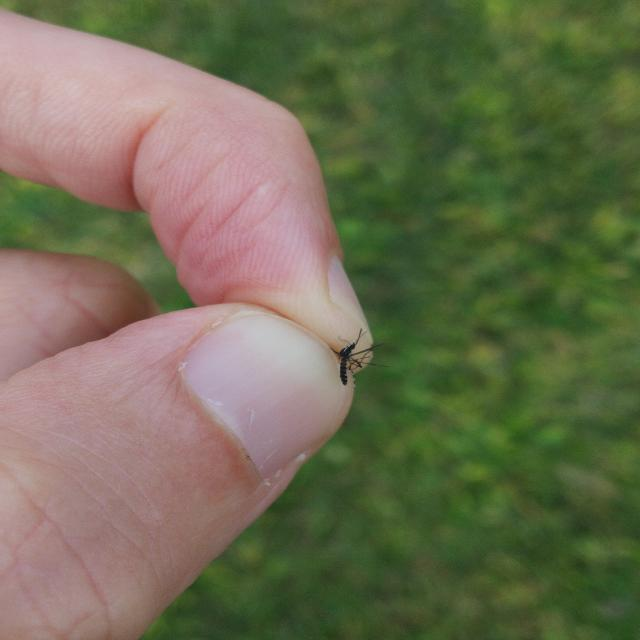albopictus: (308, 322, 386, 386)
